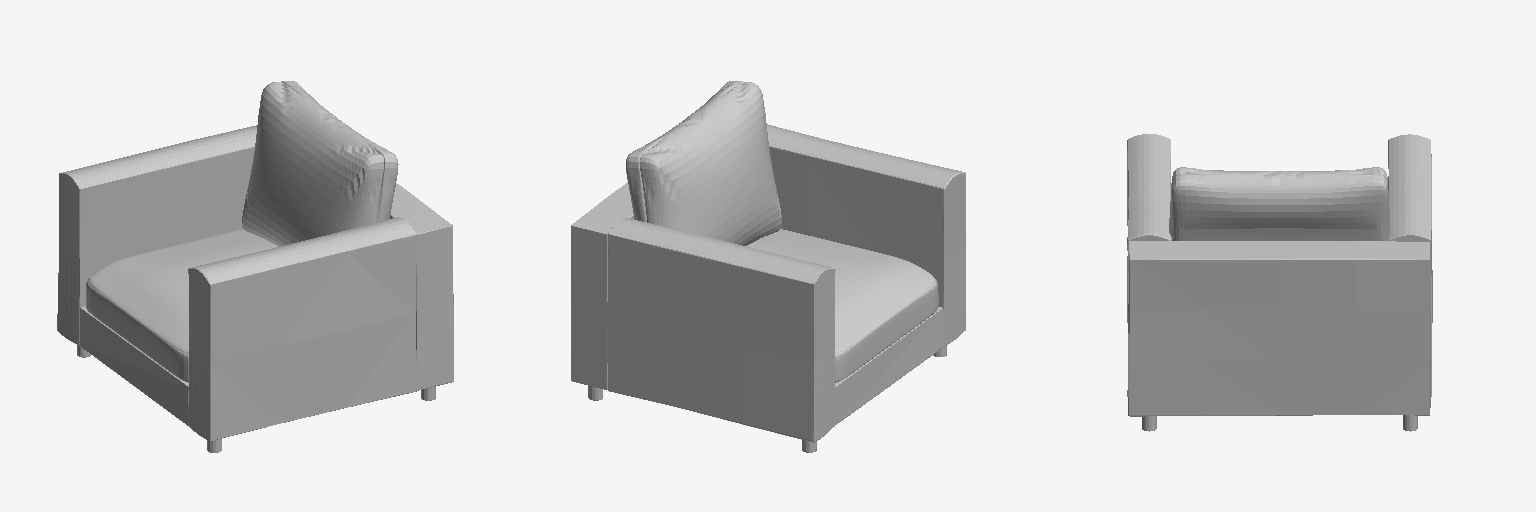
The model's file is Chair.obj.
3 renders of one model, left to right at view 1: azimuth 30°, elevation 25°; view 2: azimuth 150°, elevation 25°; view 3: azimuth 270°, elevation 25°, orthographic.
Parts seen in each view (by area): view 1: Circle.001; view 2: Circle.001; view 3: Circle.001.
Part boxes in pixels (bbox=[...]): Circle.001: bbox=[57, 81, 453, 452]; Circle.001: bbox=[571, 81, 965, 452]; Circle.001: bbox=[1127, 134, 1432, 431].
Size of the model in its own units: 1.31 by 1.22 by 1.41.